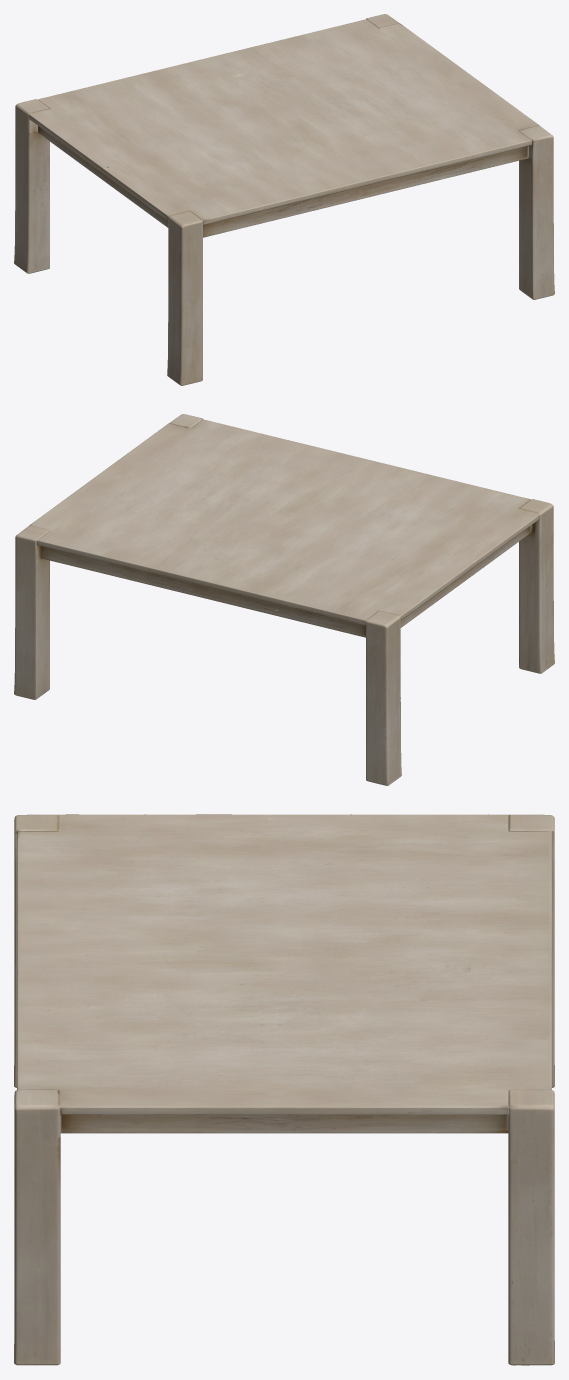
Rendered from alt_table_travertine.glb.
The picture shows the model from 3 angles, top to bottom: view 1: azimuth 30°, elevation 25°; view 2: azimuth 150°, elevation 25°; view 3: azimuth 270°, elevation 25°; orthographic projection. The views are drawn at different scales.
Parts seen in each view (by area): view 1: node_0; view 2: node_0; view 3: node_0.
Boxes of the visible parts, box(x1,y1,x2,y2) form: node_0: box(14, 14, 554, 385); node_0: box(14, 414, 554, 785); node_0: box(14, 814, 554, 1365).
Bounding box in the file's own units: 0.9076 × 0.3721 × 0.7024.
Materials: 1 (1 with a texture image).
